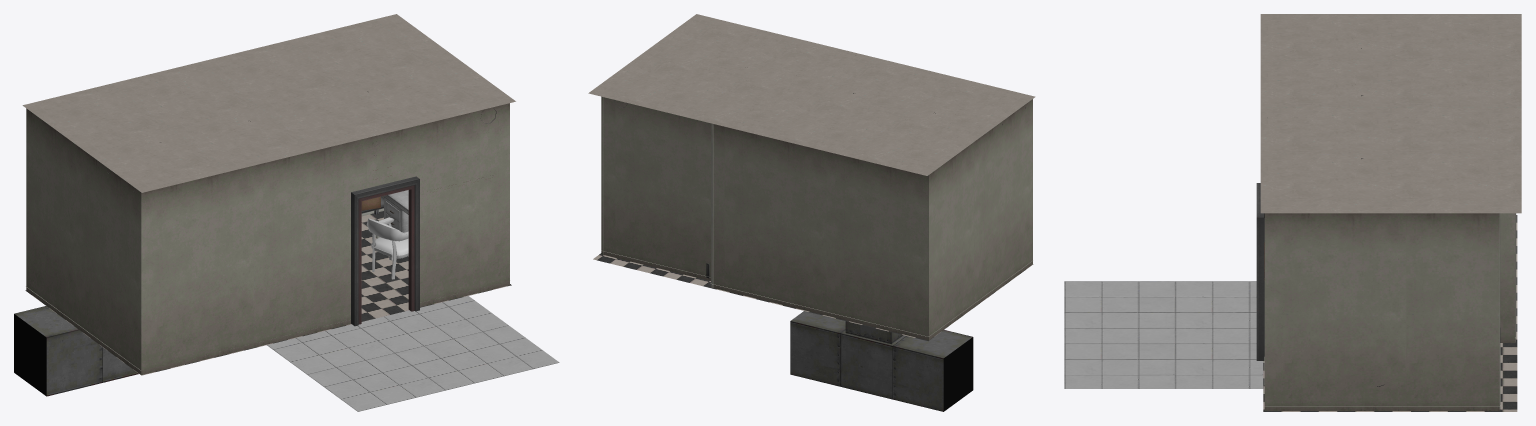
Rendered from map (1).fbx.
3 renders of one model, left to right at view 1: azimuth 30°, elevation 25°; view 2: azimuth 150°, elevation 25°; view 3: azimuth 270°, elevation 25°, orthographic. The views are drawn at different scales.
Parts seen in each view (by area): view 1: ControlRoom_Wall_1, ControlRoom_Ceiling, ControlRoom_Wall_4, IS4_P1_SueloAntesala, ControlRoom_Vent, ControlRoom_Floor, IS4_MDL_P1_PuertaControl, chair, WhiteDesk; view 2: ControlRoom_Wall_3, ControlRoom_Ceiling, ControlRoom_Wall_4, ControlRoom_Vent, ControlRoom_Floor, ControlRoom_WallTrim_2; view 3: ControlRoom_Ceiling, ControlRoom_Wall_2, IS4_P1_SueloAntesala, ControlRoom_Wall_3, ControlRoom_Floor, IS4_MDL_P1_PuertaControl.
Boxes of the visible parts, box(x1,y1,x2,y2) form: ControlRoom_Wall_1: box(141, 103, 509, 374); ControlRoom_Ceiling: box(22, 14, 515, 192); ControlRoom_Wall_4: box(26, 108, 141, 374); IS4_P1_SueloAntesala: box(267, 296, 559, 411); ControlRoom_Vent: box(14, 306, 138, 396); ControlRoom_Floor: box(25, 211, 511, 375); IS4_MDL_P1_PuertaControl: box(351, 176, 419, 326); chair: box(366, 217, 408, 279); WhiteDesk: box(383, 190, 408, 232); ControlRoom_Wall_3: box(601, 96, 928, 340); ControlRoom_Ceiling: box(588, 14, 1035, 175); ControlRoom_Wall_4: box(929, 99, 1032, 340); ControlRoom_Vent: box(790, 311, 973, 411); ControlRoom_Floor: box(593, 253, 1033, 341); ControlRoom_WallTrim_2: box(711, 123, 713, 287); ControlRoom_Ceiling: box(1260, 14, 1521, 213); ControlRoom_Wall_2: box(1264, 213, 1499, 410); IS4_P1_SueloAntesala: box(1064, 281, 1263, 388); ControlRoom_Wall_3: box(1500, 213, 1515, 342); ControlRoom_Floor: box(1263, 215, 1517, 411); IS4_MDL_P1_PuertaControl: box(1256, 183, 1264, 360).
Size of the model in its own units: 270 by 174 by 253.
